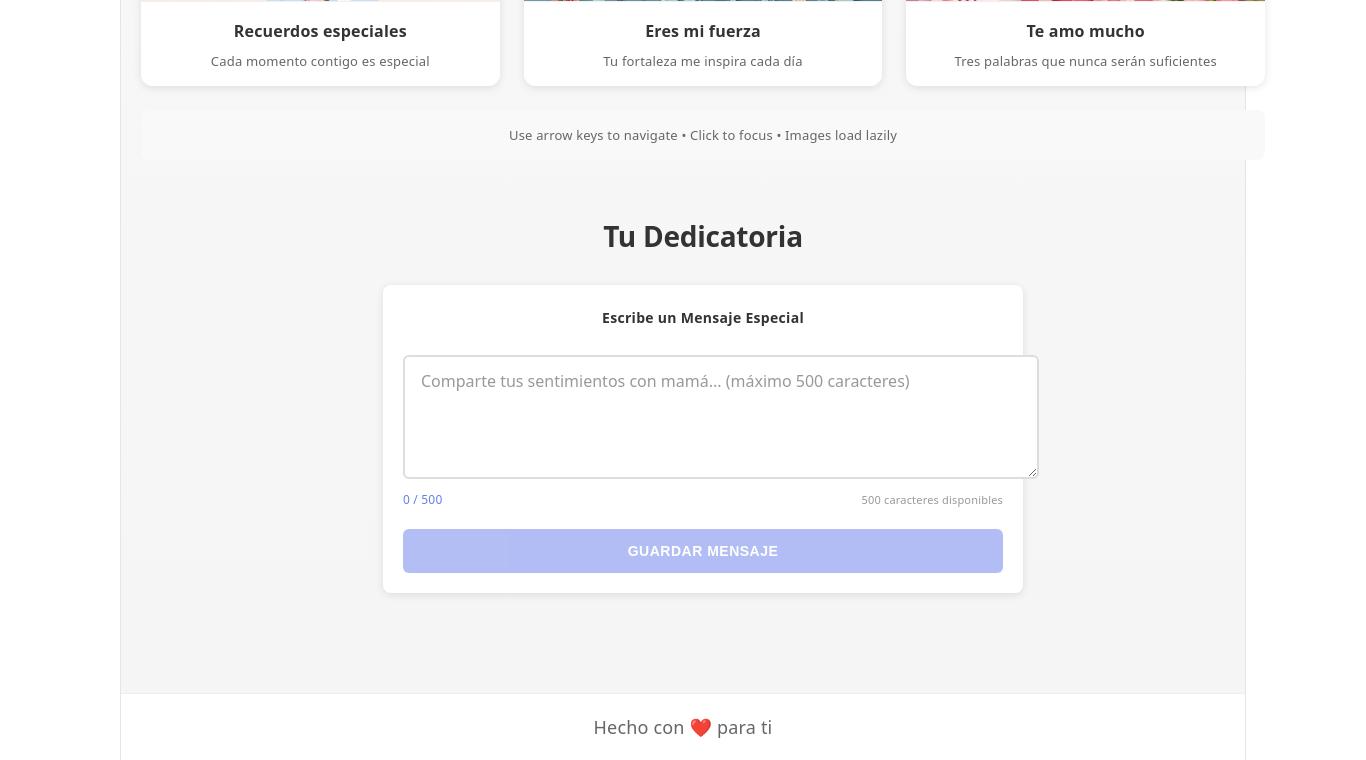
Test: MothersDayPage Integration › T076: Complete user flow › user can view greeting, browse gallery, and leave message
This screenshot has width=1366, height=760.
(page scrolled)
# Write and submit message
Type "Eres la mejor mamá del mundo" into the text box at (721, 417), box [403,355,1039,479]
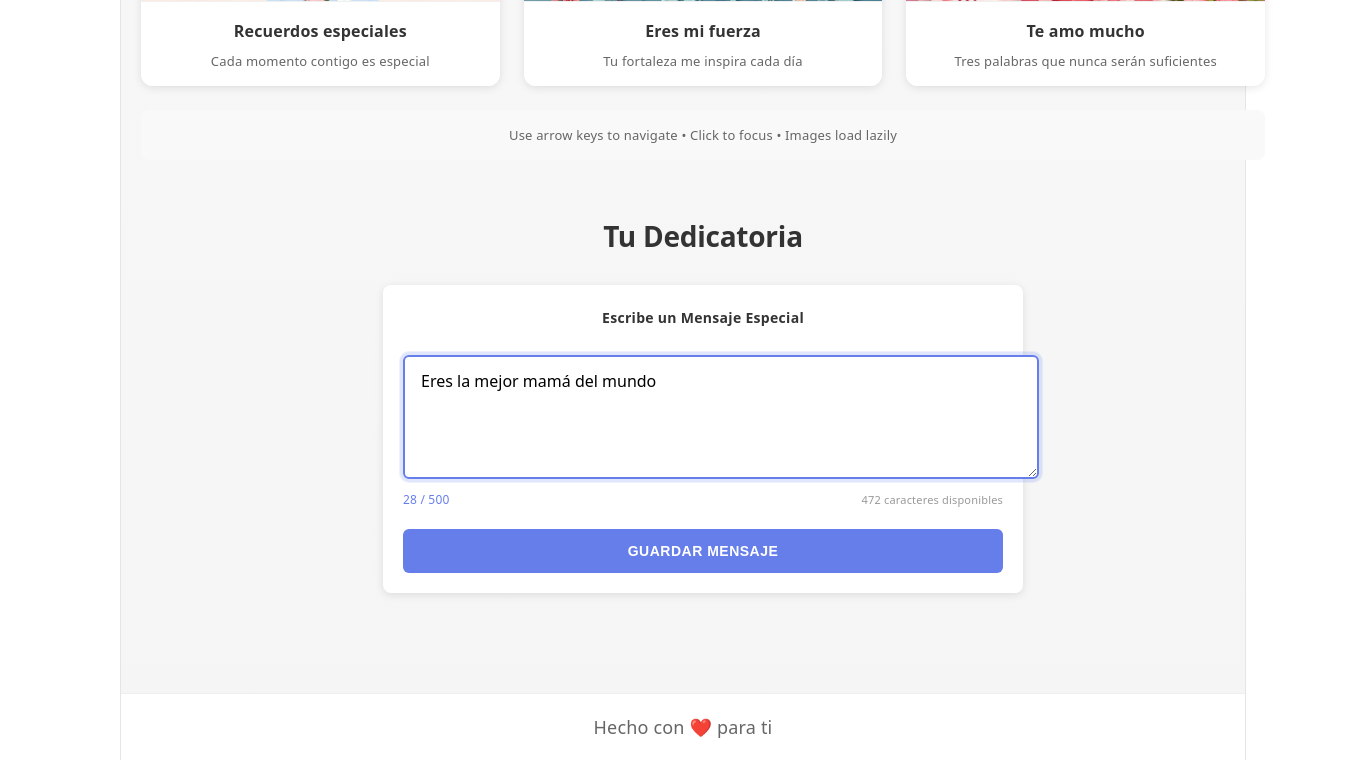
Click the button "Guardar Mensaje" at (703, 551), box [403,529,1003,573]
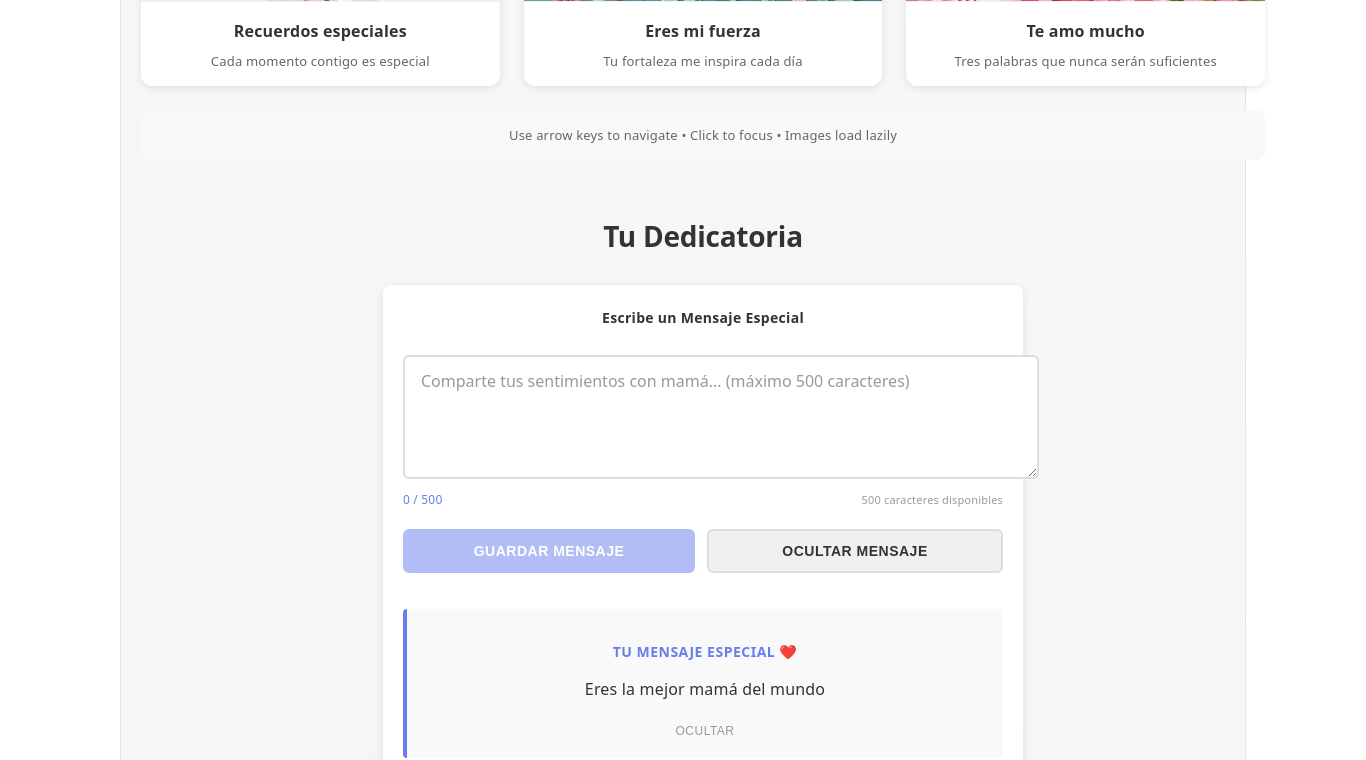
Check: the text "Eres la mejor mamá del mundo" is shown, box [585,678,825,700]
Click the button "Ocultar Mensaje" at (855, 551), box [707,529,1003,573]
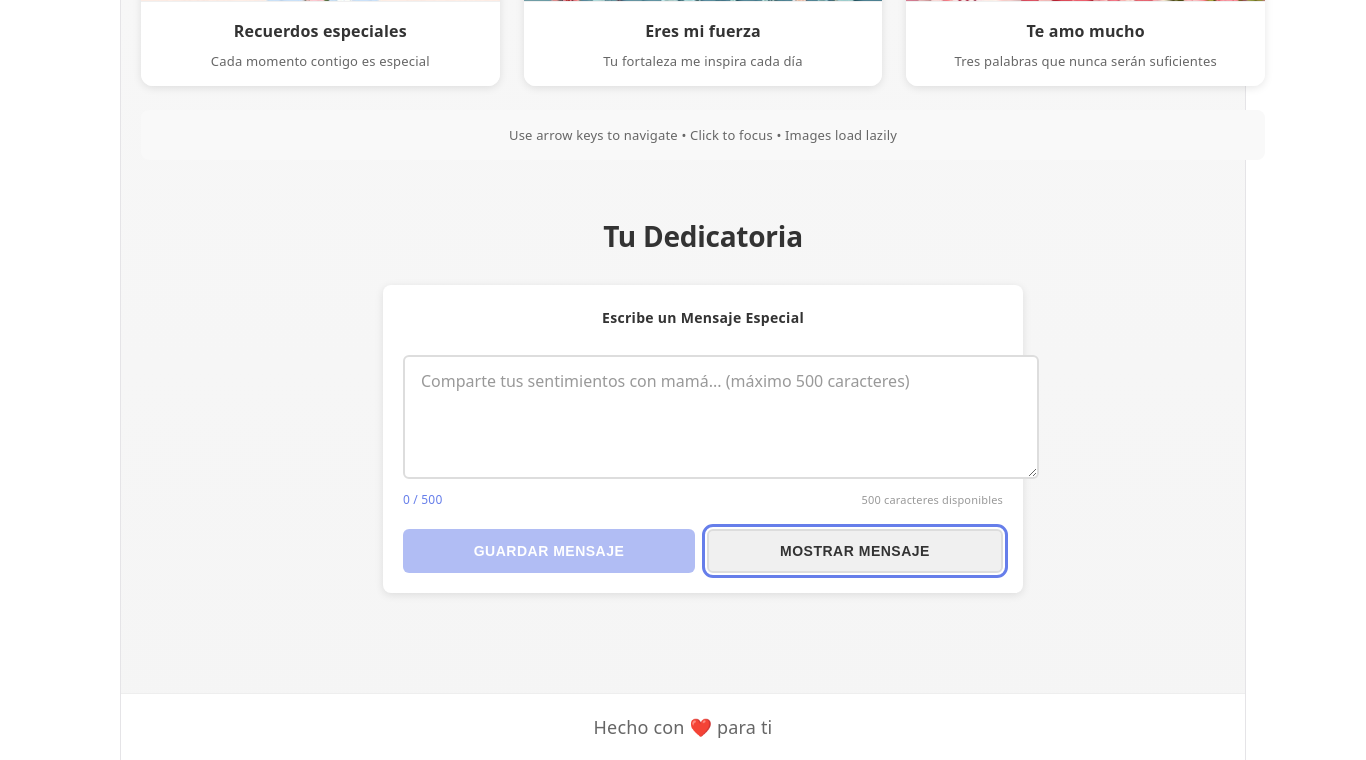
Check: the text "Eres la mejor mamá del mundo" is gone
Click the button "Mostrar Mensaje" at (855, 551), box [707,529,1003,573]
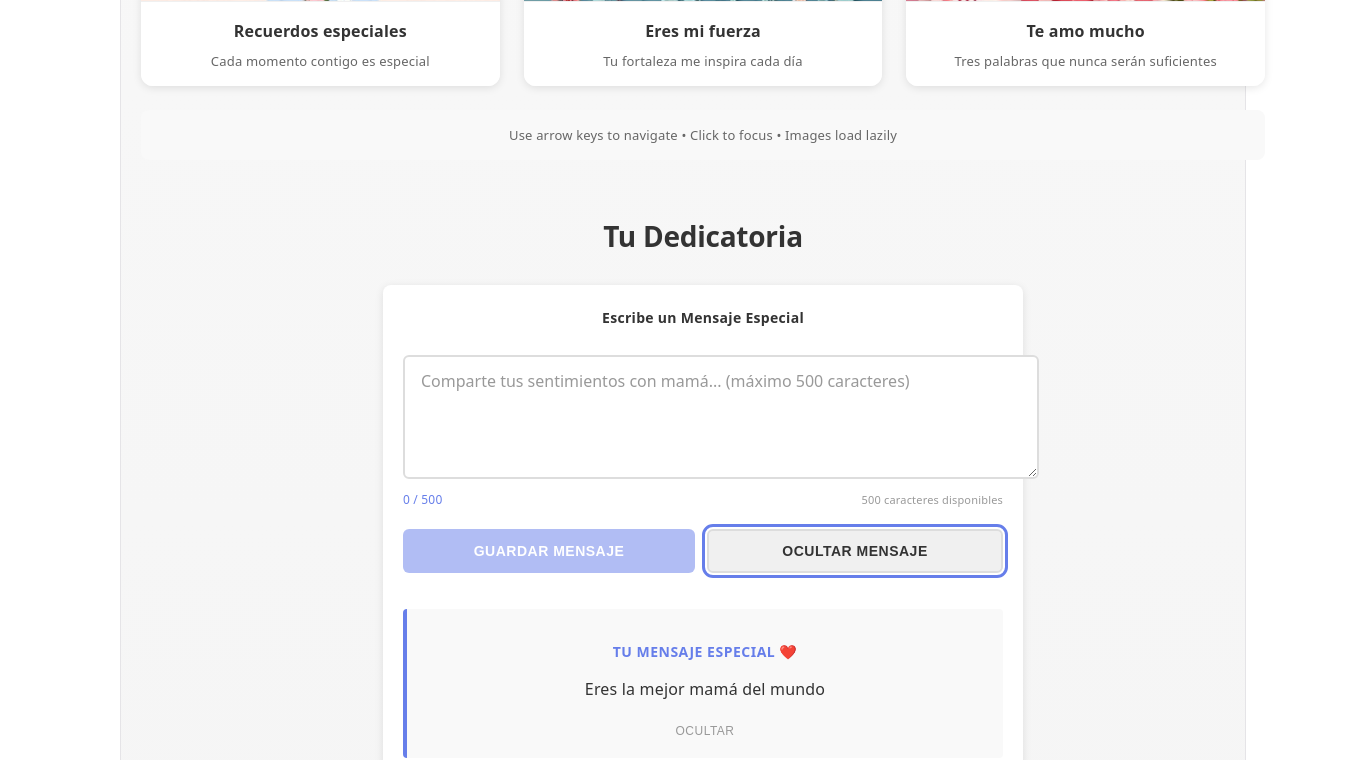
Check: the text "Eres la mejor mamá del mundo" is shown, box [585,678,825,700]
